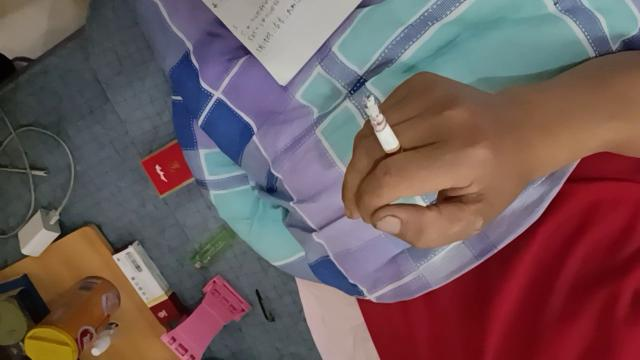Cigarette: (365, 94, 407, 166)
